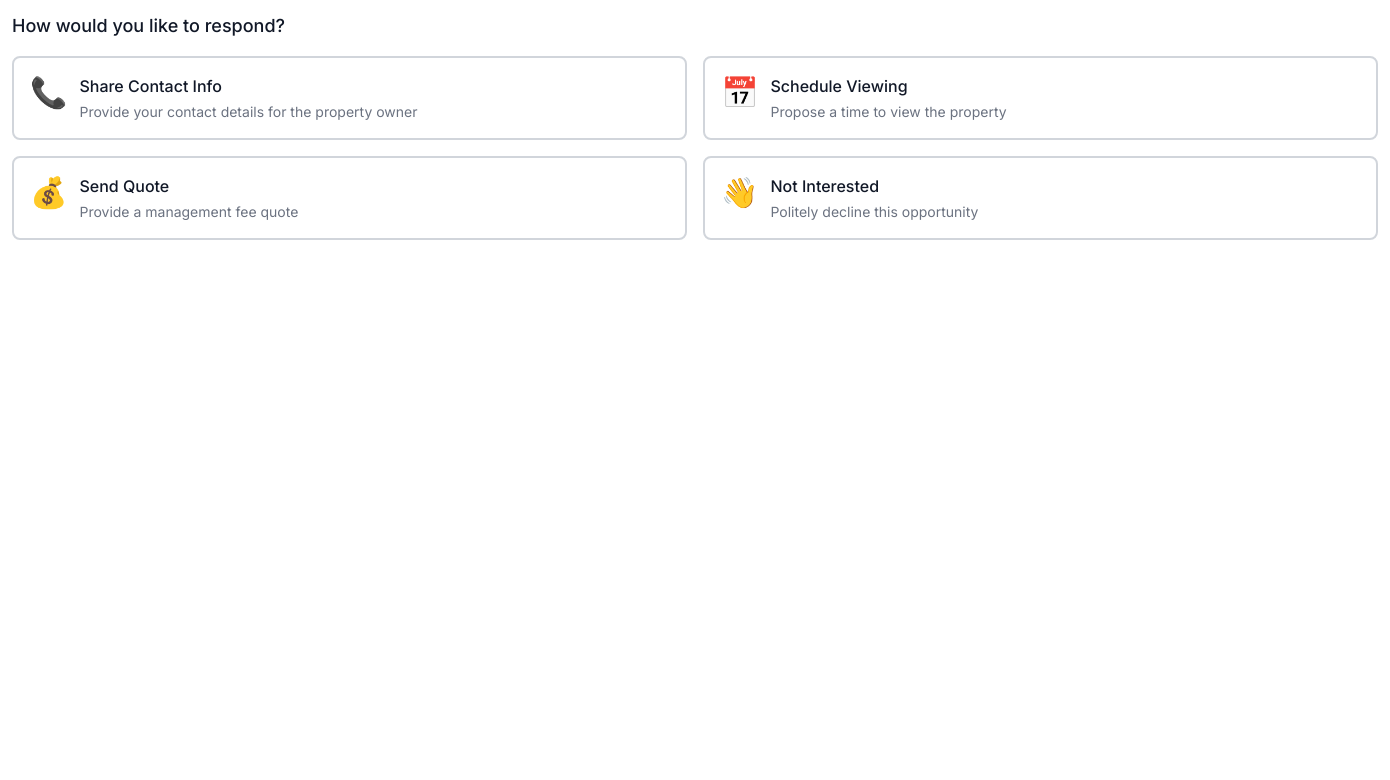
Test: Lead Response System › ResponseForm › should show availability form when selected
Click the button "📅 Schedule Viewing Propose a time to view the property". click: (740, 92)
box: [703,56,1378,140]
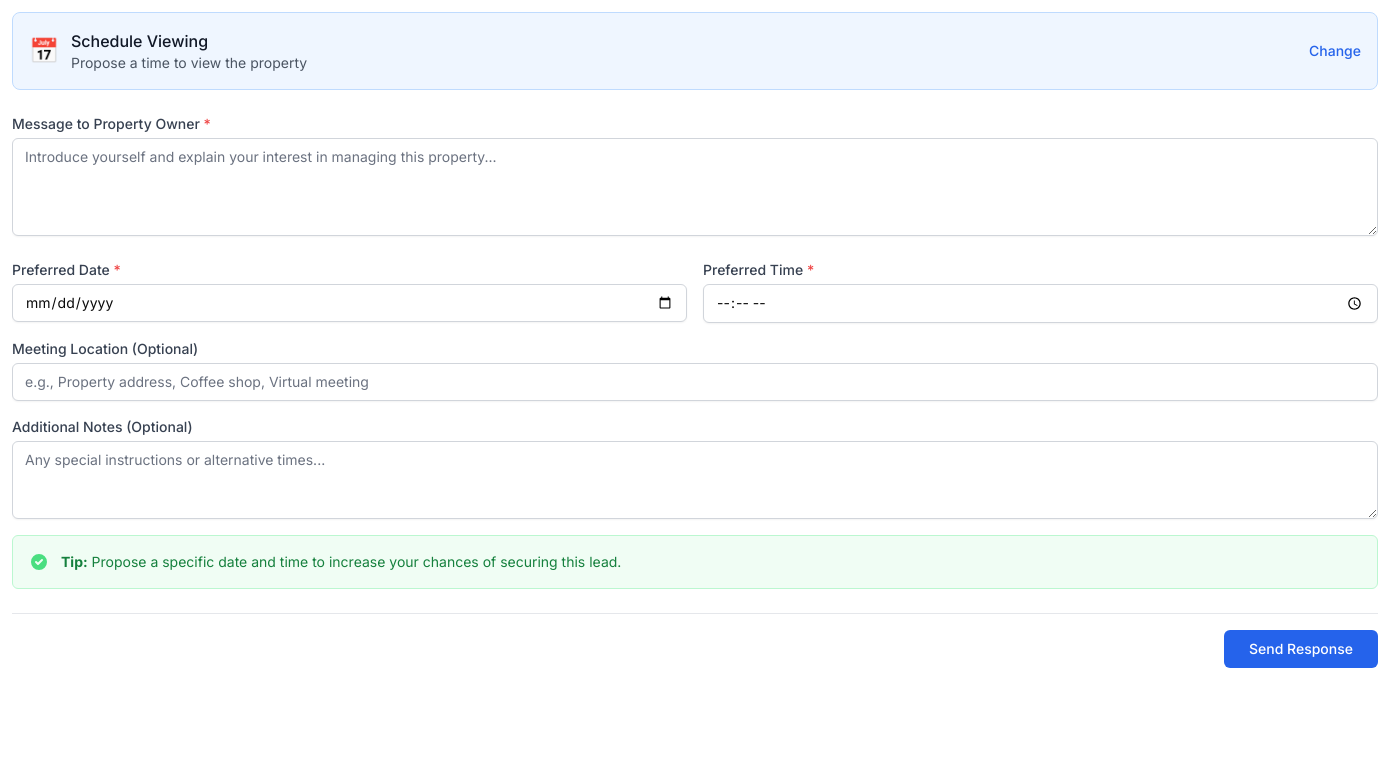
Now the date field labelled "Preferred Date *" is shown, box [12,284,687,322]
Now the time field labelled "Preferred Time *" is shown, box [703,284,1378,323]
